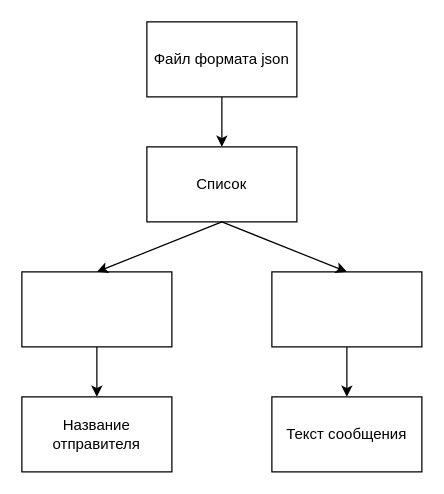
Some shapes in this 444 by 494 pixel diagram are drawn without their labels. Here are the shapes that lost their labels. From the top down, the box of each, then its label:
(21, 271, 172, 347): Отправитель
(271, 271, 422, 347): Сообщение
